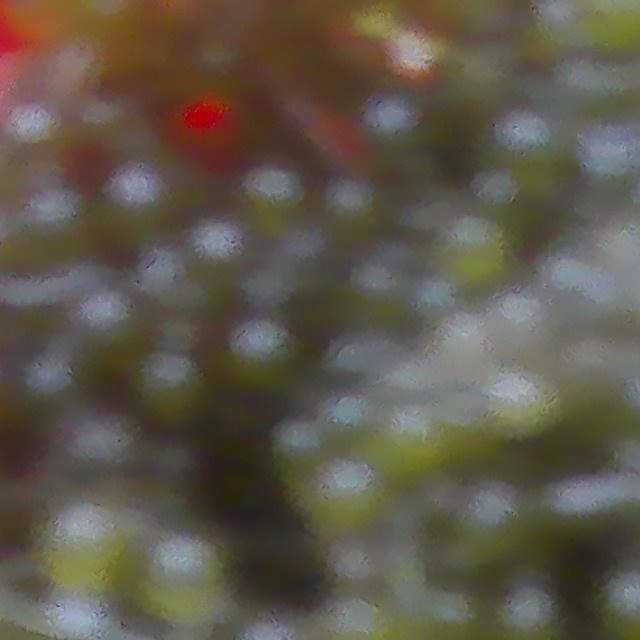SeaGrape: (487, 582, 563, 640)
